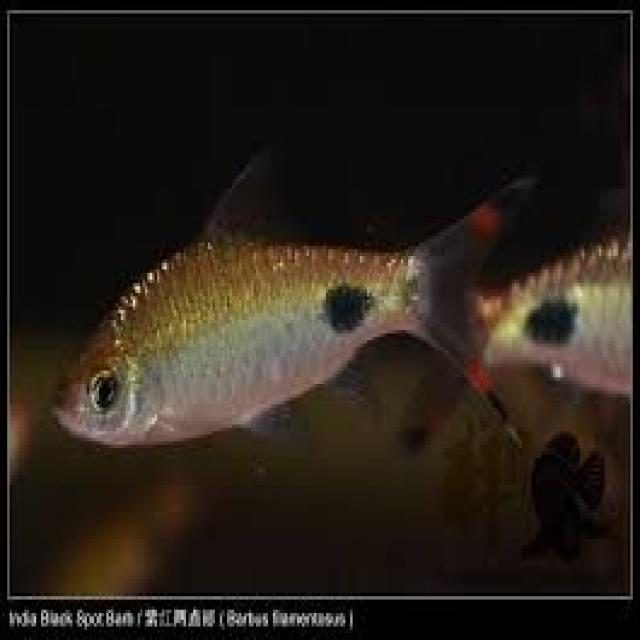Black-Spotted-Barb: (46, 86, 557, 483)
